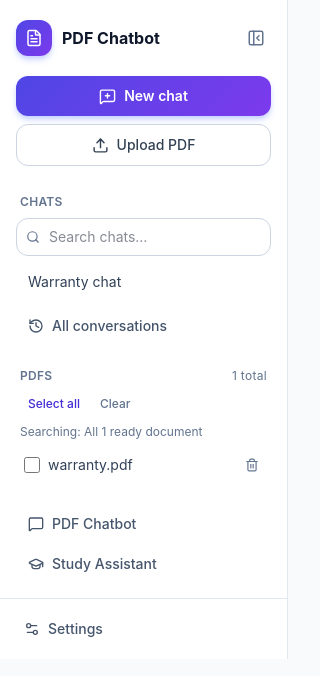
Sidebar collapse › collapses to icons and remembers the choice
Click the button named "Collapse sidebar". click: point(256, 38)
box: [241,23,271,53]
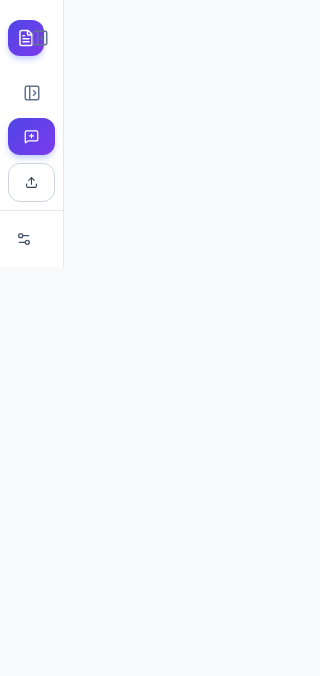
Now the element named "Sidebar" has attribute data-collapsed="true", box [0,0,64,267]
